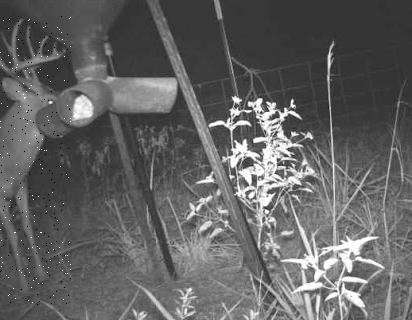Deer: (0, 16, 71, 305)
